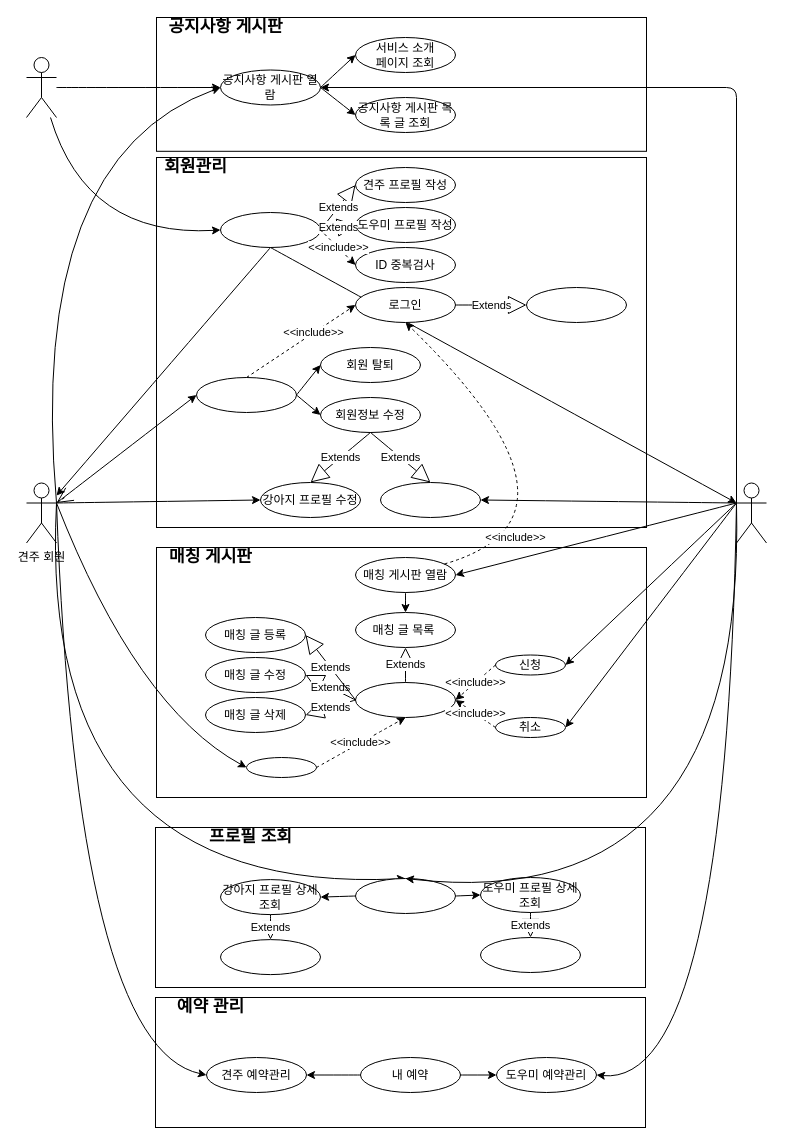
Image size: 798x1145. Some labels were removed from this diagram. The box of each missing label's shape, as (x1, y1, x2, y2) in pixels:
강아지 프로필 목록 조회: (220, 939, 320, 975)
고객: (26, 56, 56, 118)
도우미 프로필 목록 조회: (480, 936, 580, 972)
도우미 프로필 수정: (380, 482, 480, 518)
도우미 회원: (736, 482, 766, 543)
로그아웃: (526, 286, 626, 322)
마이페이지: (196, 376, 296, 412)
매칭 글 상세 조회: (354, 682, 456, 718)
수락: (246, 756, 316, 778)
프로필 열람: (354, 878, 456, 914)
회원가입: (220, 212, 320, 248)
